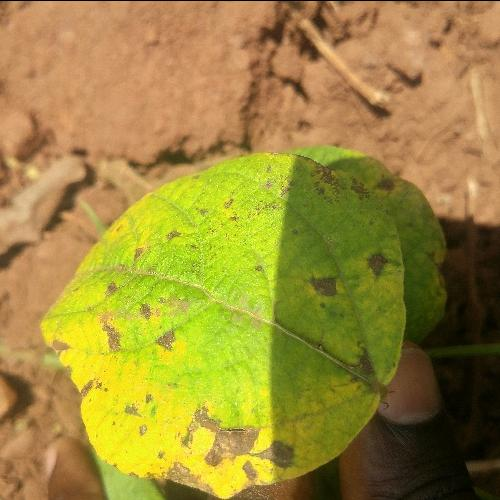hawar: (81, 151, 397, 483)
